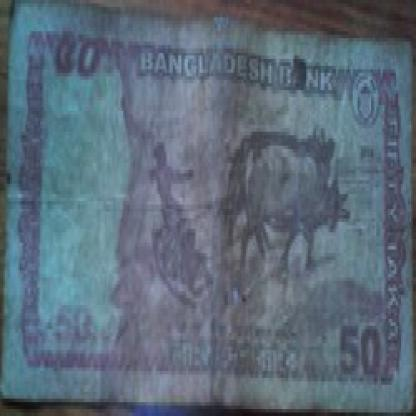Fifty taka: (333, 312, 399, 392), (56, 28, 114, 107)
